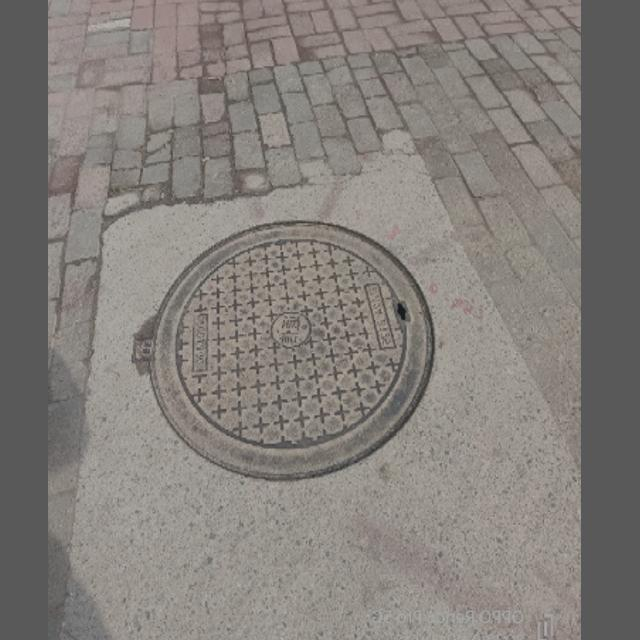good: (148, 215, 428, 485)
